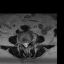CCS_normal: (25, 40, 27, 49)
LFS_stenosis: (28, 39, 30, 44)
LLS_normal: (27, 40, 28, 47)
RFS_normal: (21, 40, 23, 46)
RLS_normal: (23, 41, 25, 47)
